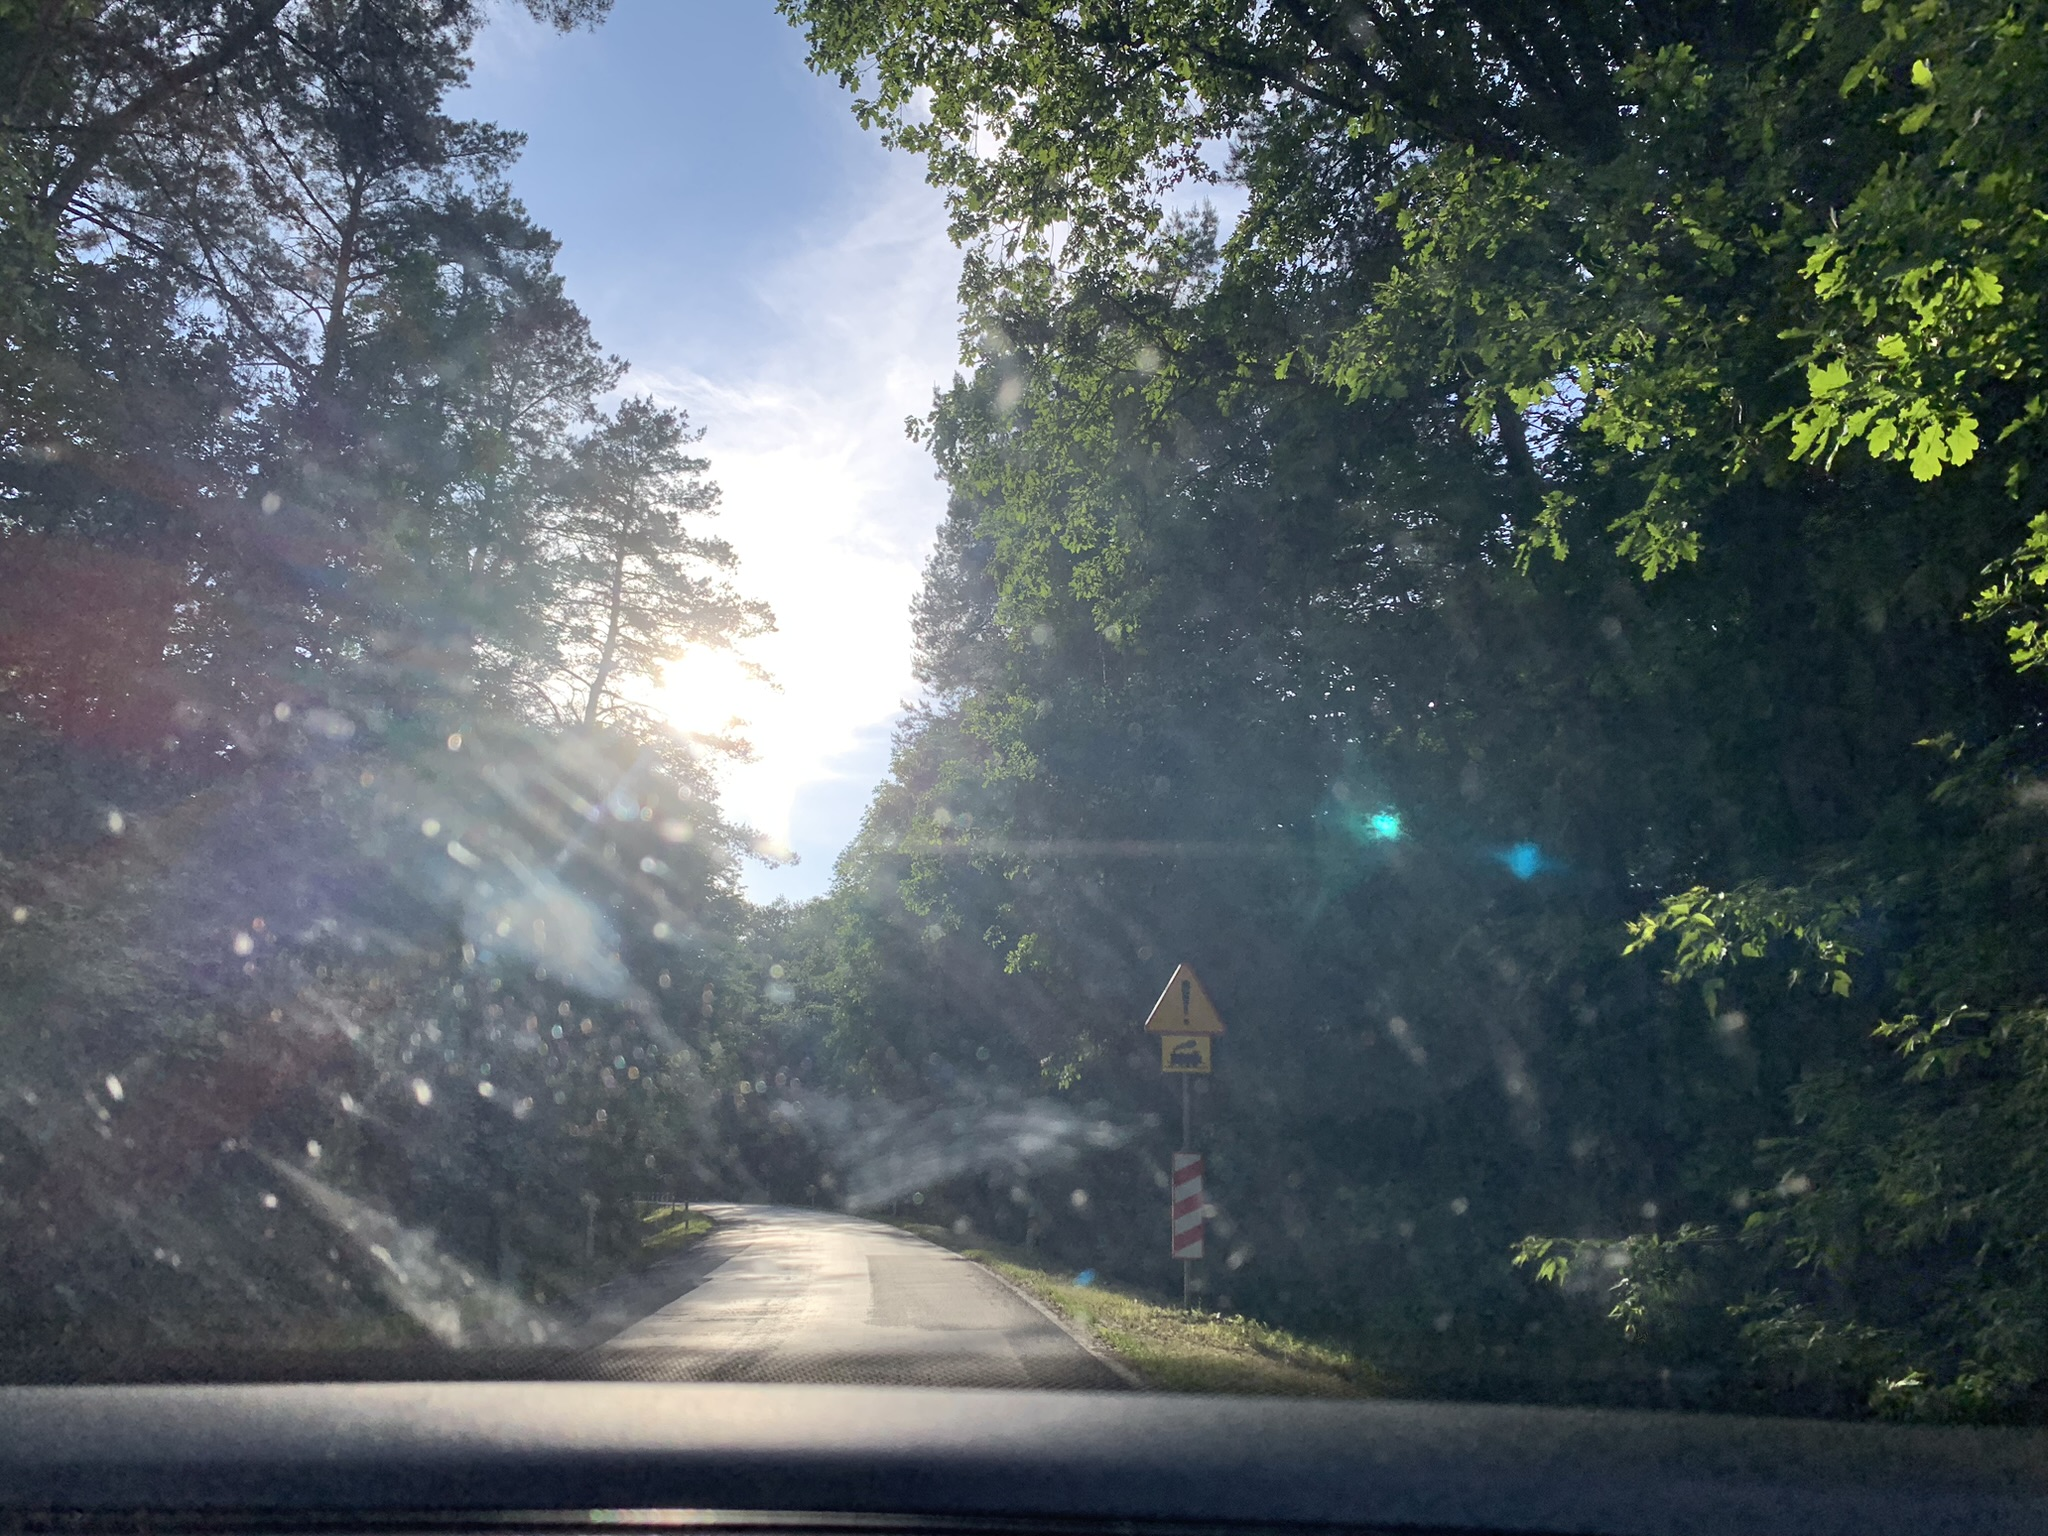a10: (1164, 1037, 1208, 1071)
